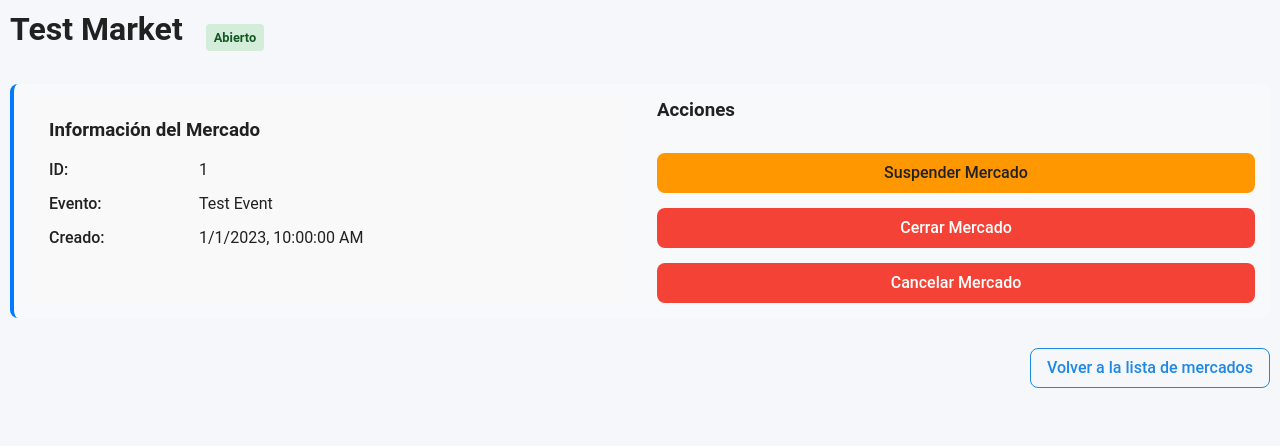
MarketDetail › allows suspending an open market
What coordinates should you click on to do the following:
click the button "Suspender Mercado"
I would click on:
 (956, 173)
Its box is left=657, top=153, right=1255, bottom=193.
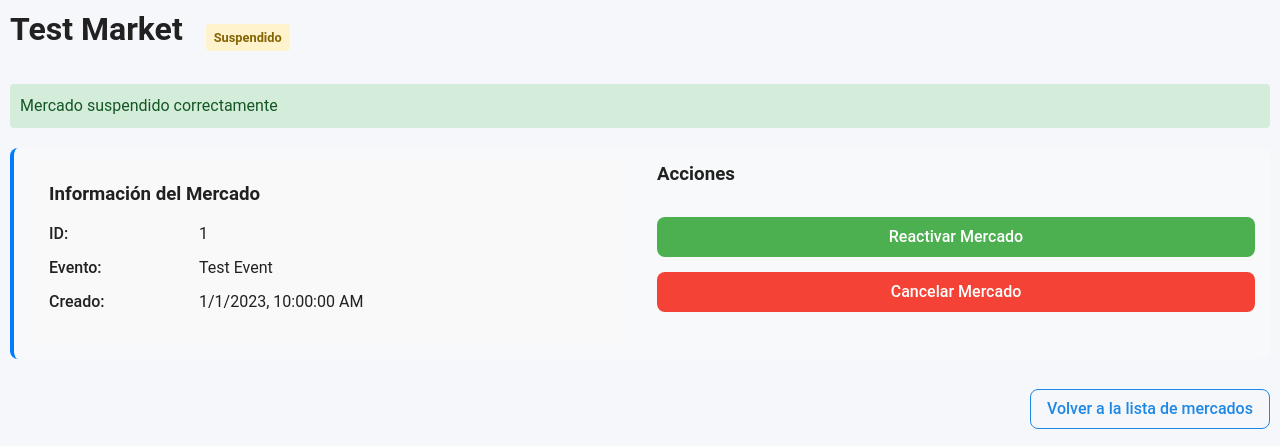
expect the text "Mercado suspendido correctamente" is shown: met, box left=10, top=84, right=1270, bottom=128
